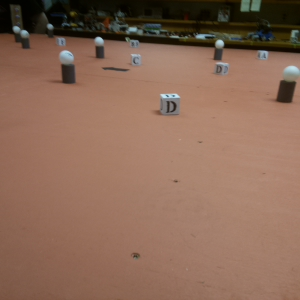blockA: (257, 51, 268, 60)
blockC: (130, 54, 142, 66)
blockD: (160, 93, 181, 116), (215, 62, 229, 76)
corner: (9, 5, 21, 30)
obstacle: (278, 65, 297, 106), (59, 49, 79, 83), (214, 38, 225, 61), (94, 37, 105, 60), (20, 30, 31, 48), (13, 26, 23, 43), (45, 23, 54, 37)
start: (101, 63, 129, 74)
